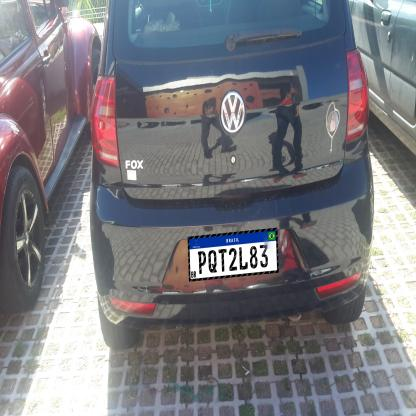PlacaM: (188, 228, 278, 282)
